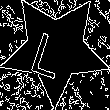L_N: (33, 20, 77, 79)
